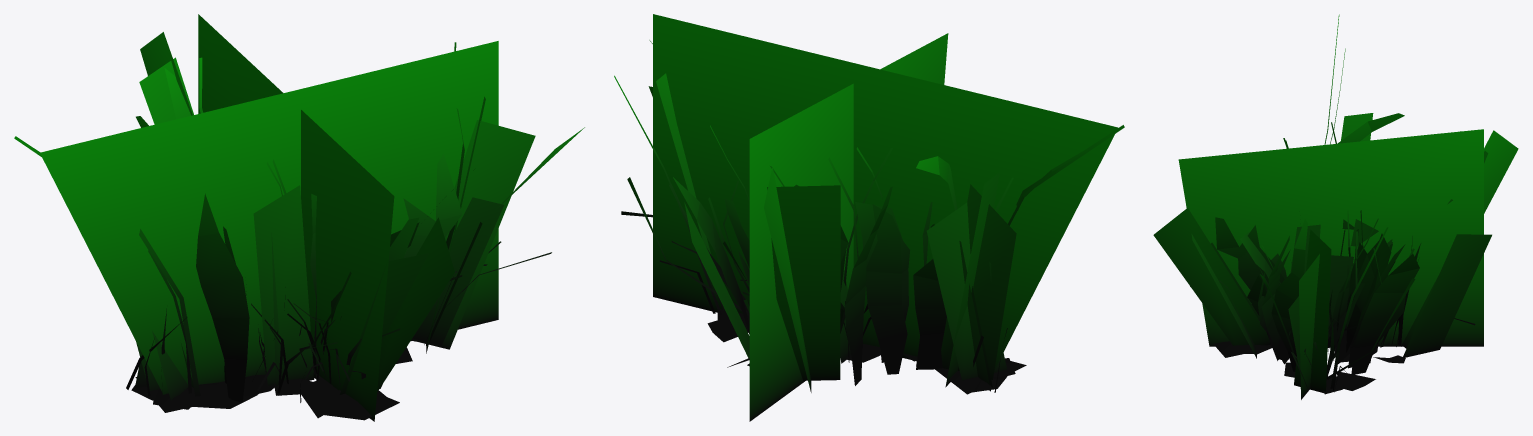
File: MSH_Field_Grass_B.fbx
The picture shows the model from 3 angles, left to right: view 1: azimuth 30°, elevation 25°; view 2: azimuth 150°, elevation 25°; view 3: azimuth 270°, elevation 25°; orthographic projection. The views are drawn at different scales.
Visible parts, largest first — view 1: Field_Grass_B_LOD2_GEO, Field_Grass_B_LOD1_GEO, Field_Grass_B_LOD0_GEO; view 2: Field_Grass_B_LOD2_GEO, Field_Grass_B_LOD1_GEO, Field_Grass_B_LOD0_GEO; view 3: Field_Grass_B_LOD2_GEO, Field_Grass_B_LOD1_GEO, Field_Grass_B_LOD0_GEO.
Part boxes in pixels (x1,y1,x2,y2): Field_Grass_B_LOD2_GEO: (40,14,498,421); Field_Grass_B_LOD1_GEO: (14,32,584,420); Field_Grass_B_LOD0_GEO: (126,57,501,418); Field_Grass_B_LOD2_GEO: (653,14,1117,421); Field_Grass_B_LOD1_GEO: (614,40,1124,394); Field_Grass_B_LOD0_GEO: (673,125,1088,392); Field_Grass_B_LOD2_GEO: (1178,129,1483,346); Field_Grass_B_LOD1_GEO: (1153,14,1518,399); Field_Grass_B_LOD0_GEO: (1215,48,1452,394).
Size of the model in its own units: 87.05 by 47.48 by 67.86.
